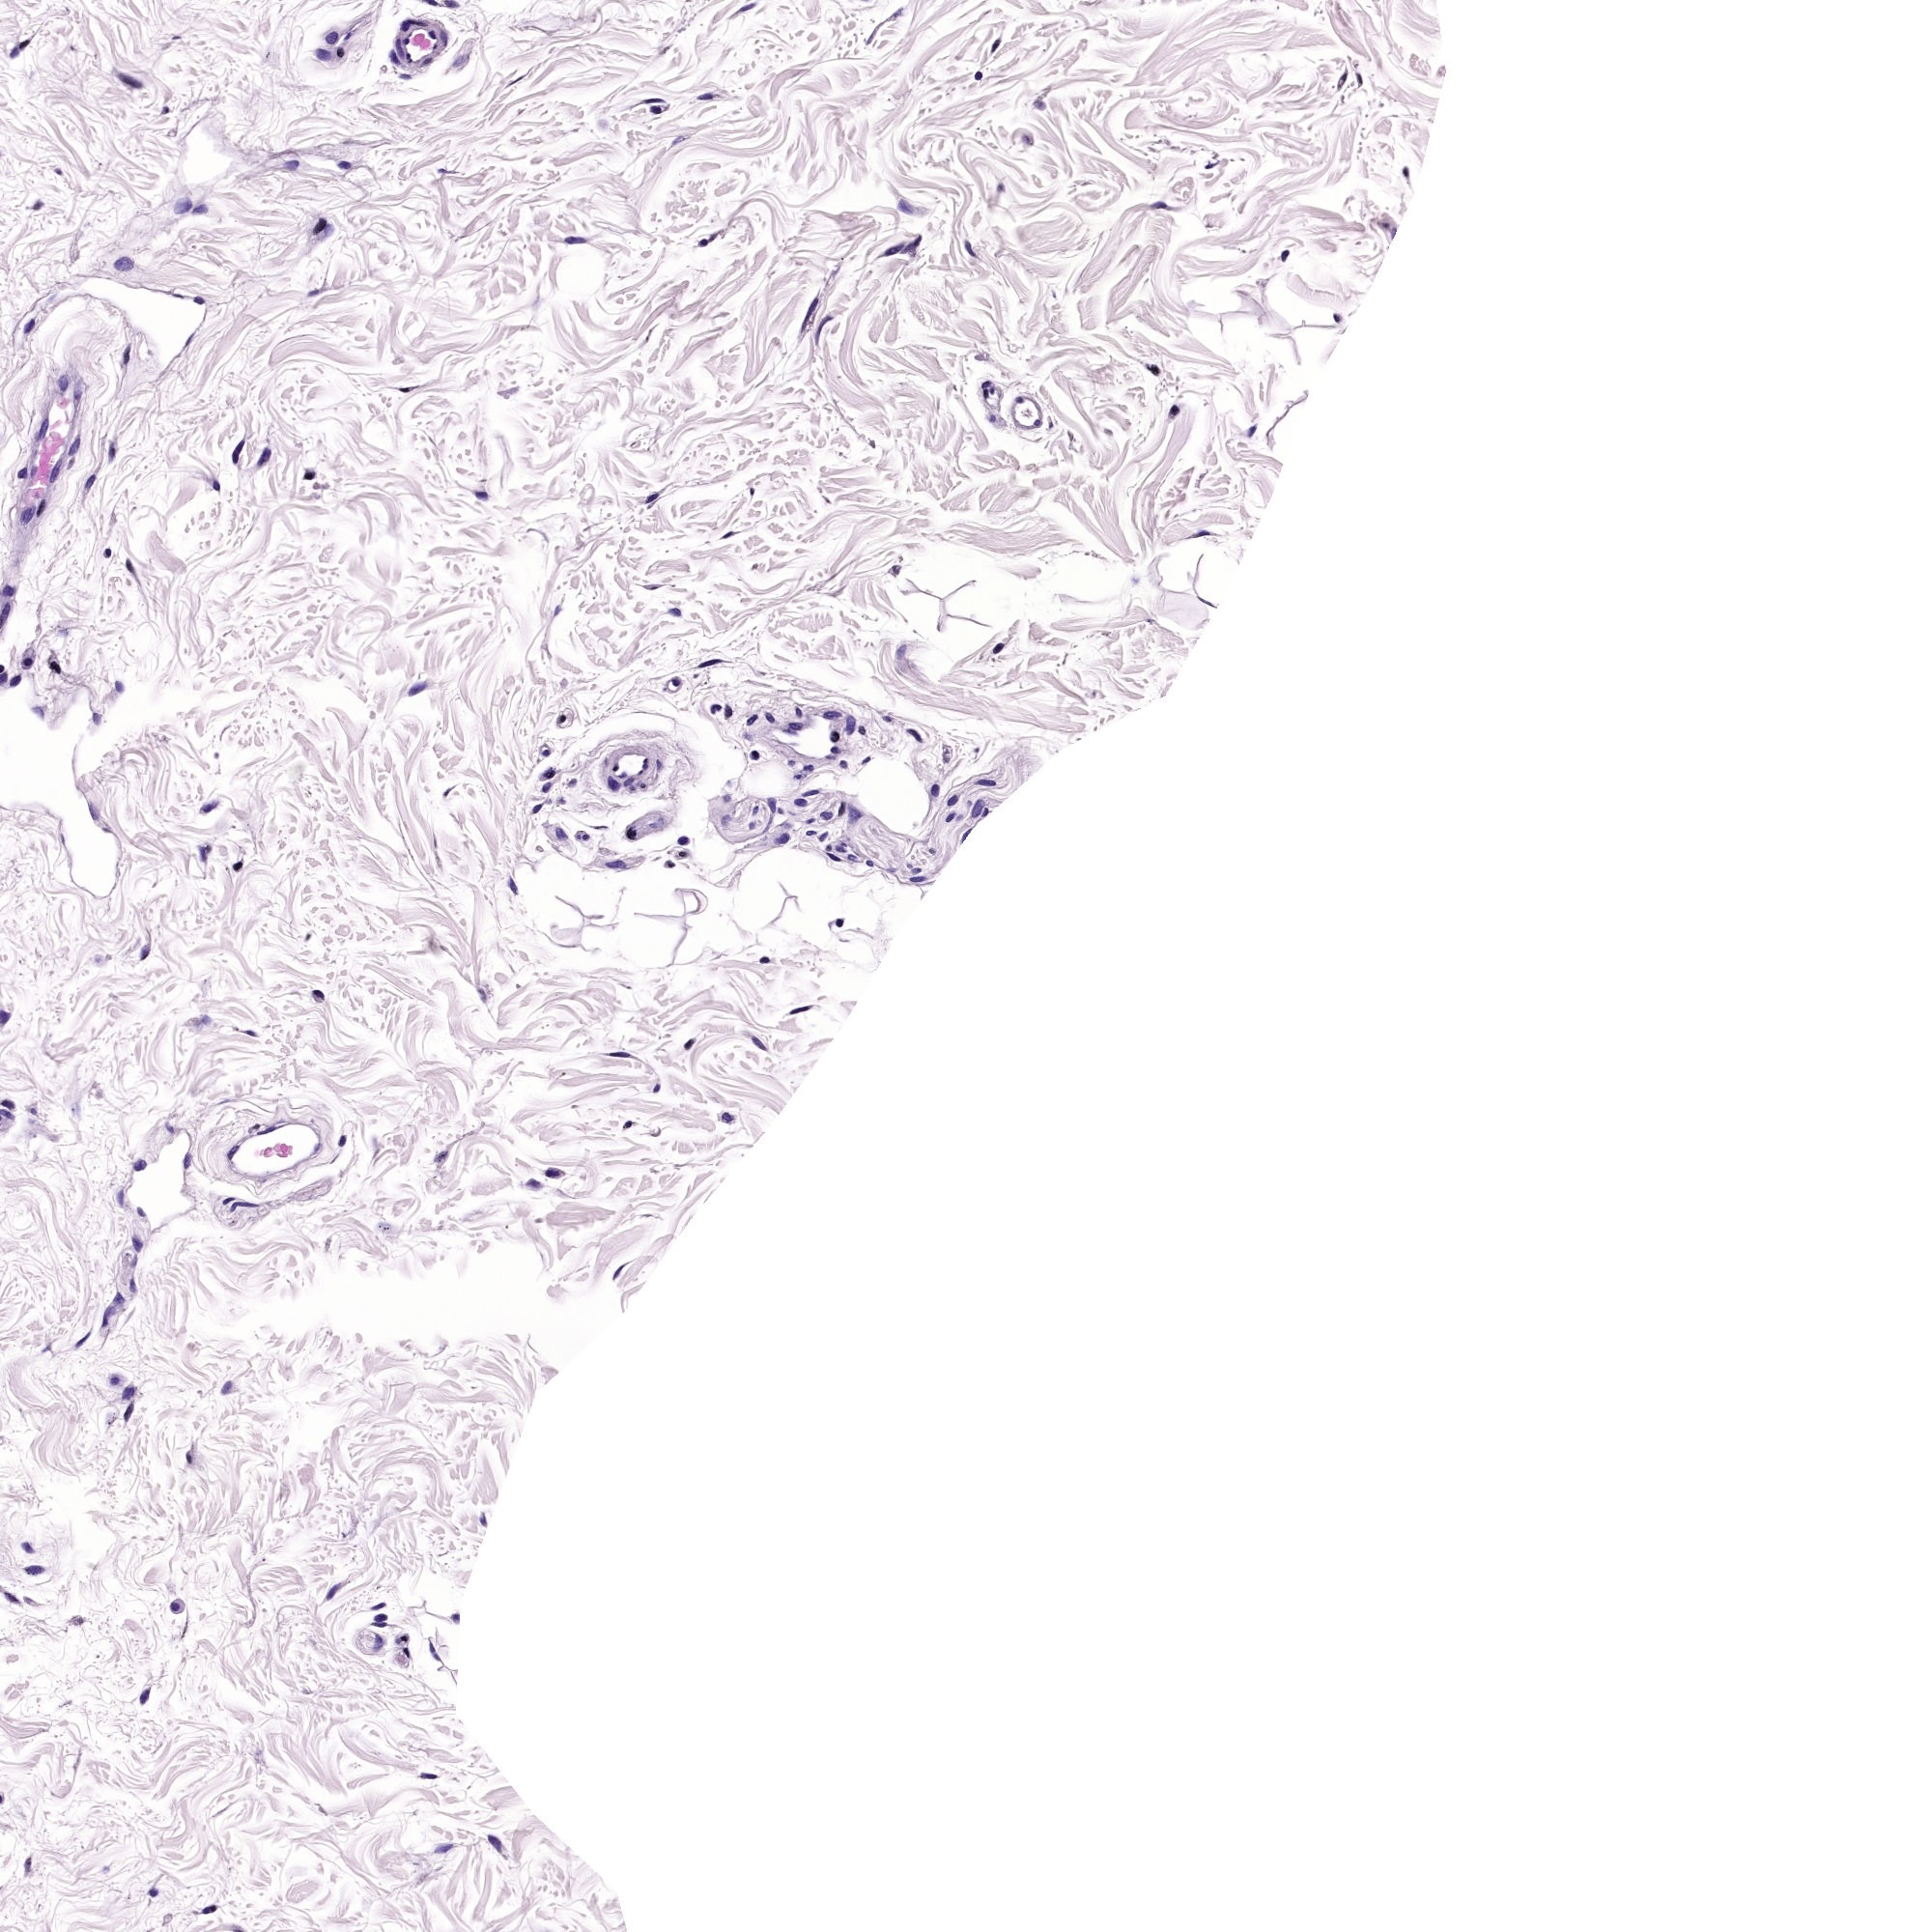fibroblast and endothelial: (53, 465, 57, 476), (92, 809, 96, 817), (131, 1283, 134, 1292), (182, 203, 188, 209), (807, 310, 812, 315), (60, 380, 65, 386), (19, 471, 25, 476), (412, 690, 418, 695), (510, 881, 515, 886), (4, 610, 7, 617), (571, 239, 577, 242), (817, 327, 821, 333), (909, 246, 915, 249), (264, 455, 267, 460), (25, 513, 30, 517), (9, 1594, 12, 1599), (235, 449, 237, 458), (200, 209, 203, 212), (317, 226, 320, 230), (27, 324, 30, 327), (701, 241, 704, 244), (890, 249, 893, 253), (649, 495, 653, 499), (73, 446, 76, 449), (41, 508, 44, 511), (977, 807, 980, 810), (851, 722, 853, 729), (830, 713, 833, 717), (771, 807, 775, 810), (768, 715, 771, 718), (138, 1164, 142, 1168), (249, 1031, 253, 1035), (757, 1042, 761, 1046), (617, 1269, 621, 1272), (407, 1651, 410, 1654), (442, 1847, 446, 1851), (152, 1891, 156, 1895), (322, 55, 327, 57), (1341, 76, 1343, 81), (481, 495, 487, 497), (402, 389, 407, 391), (708, 662, 713, 663), (853, 812, 855, 817), (543, 787, 548, 789), (614, 863, 619, 865), (119, 683, 120, 688), (186, 1157, 188, 1162), (533, 1185, 538, 1187), (235, 1203, 241, 1205), (138, 1240, 140, 1246), (108, 1309, 110, 1315), (14, 51, 16, 55), (292, 163, 294, 166), (331, 35, 333, 39), (405, 23, 409, 25), (432, 34, 433, 37), (458, 58, 462, 60), (177, 295, 180, 297), (1207, 166, 1210, 168), (1359, 76, 1361, 80), (1338, 317, 1339, 320), (1154, 370, 1157, 372), (1017, 398, 1021, 400), (42, 426, 44, 430), (16, 681, 18, 685), (651, 586, 653, 589), (729, 534, 731, 538), (1205, 602, 1208, 603), (952, 801, 954, 805), (936, 791, 938, 794), (801, 801, 805, 803), (805, 768, 809, 770), (614, 768, 616, 771), (207, 807, 209, 810), (5, 1115, 9, 1116), (255, 1125, 258, 1127), (232, 1150, 234, 1154), (688, 1042, 690, 1046), (656, 1088, 658, 1092), (225, 1200, 228, 1201), (117, 1299, 120, 1300), (80, 1341, 83, 1343), (127, 1410, 129, 1414), (28, 1546, 30, 1550), (143, 1697, 145, 1700), (333, 1591, 334, 1594), (403, 1637, 405, 1640), (433, 1651, 435, 1654), (483, 1520, 485, 1523), (428, 1776, 432, 1778), (492, 1840, 494, 1844), (207, 1909, 211, 1911), (23, 42, 25, 44), (398, 46, 400, 48), (395, 58, 396, 60), (426, 60, 428, 62), (515, 80, 517, 81), (747, 5, 748, 7), (996, 44, 998, 46), (968, 248, 970, 249), (1283, 255, 1284, 257), (1175, 410, 1177, 412), (984, 384, 985, 386), (991, 418, 993, 419), (76, 393, 78, 395), (7, 589, 9, 591), (984, 782, 985, 784), (984, 812, 985, 814), (948, 817, 950, 819), (867, 862, 869, 863), (837, 847, 839, 849), (828, 846, 830, 847), (807, 793, 809, 794), (886, 718, 888, 720), (727, 711, 729, 713), (612, 784, 614, 786), (628, 780, 630, 782), (538, 807, 540, 809), (676, 610, 678, 612), (143, 952, 145, 954), (7, 1104, 9, 1106), (798, 1010, 800, 1012), (621, 1053, 623, 1054), (140, 1212, 142, 1214), (37, 1569, 39, 1571), (380, 1606, 382, 1608)
inflammatory: (548, 1173, 556, 1178), (681, 839, 685, 842), (318, 991, 322, 994), (835, 734, 837, 740), (713, 708, 717, 709), (115, 1380, 117, 1384), (175, 1605, 177, 1608), (548, 771, 550, 773), (34, 1111, 35, 1113)
lymphocyte: (978, 74, 980, 78), (764, 959, 768, 961), (380, 1617, 384, 1619), (405, 41, 407, 42), (308, 474, 310, 476)
